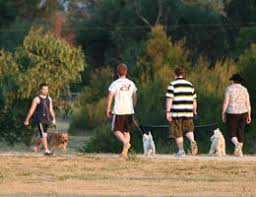Person: (162, 67, 203, 159), (106, 62, 140, 160), (219, 73, 253, 157), (22, 80, 57, 158)
